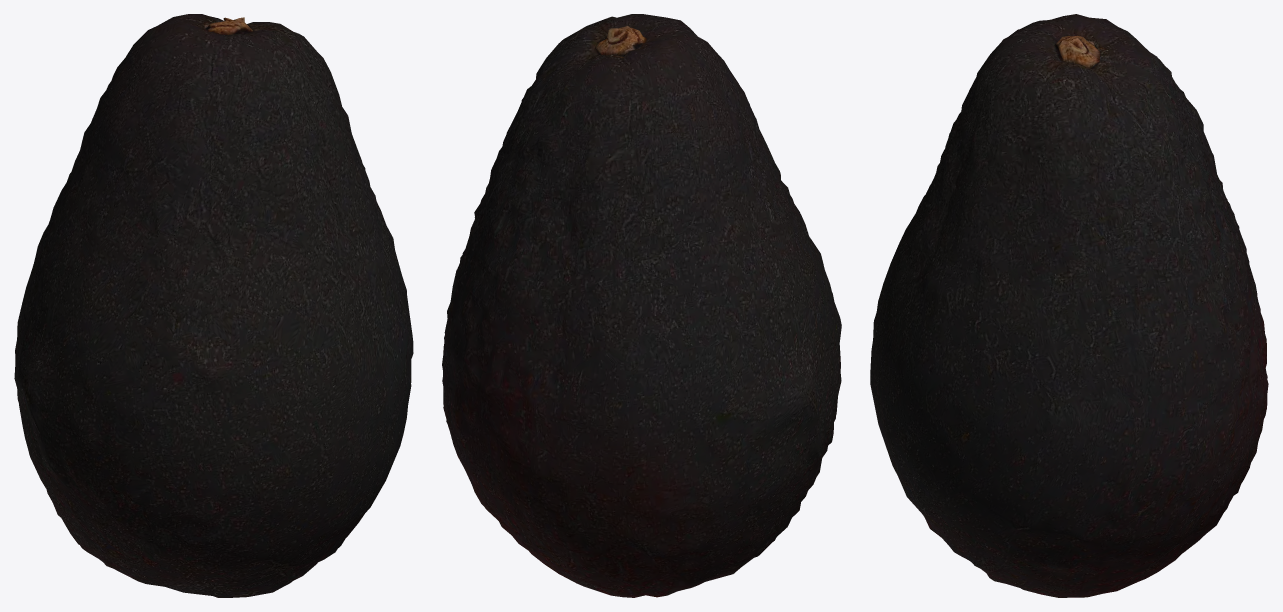
File: food_avocado_01.glb
The picture shows the model from 3 angles, left to right: view 1: azimuth 30°, elevation 25°; view 2: azimuth 150°, elevation 25°; view 3: azimuth 270°, elevation 25°; orthographic projection. The views are drawn at different scales.
Visible parts, largest first — view 1: food_avocado_01; view 2: food_avocado_01; view 3: food_avocado_01.
Boxes of the visible parts, x1,y1,x2,y2 form: food_avocado_01: [14, 14, 413, 597]; food_avocado_01: [442, 14, 841, 597]; food_avocado_01: [870, 14, 1268, 597].
Size of the model in its own units: 0.0952 by 0.1432 by 0.0946.
Materials: 1 (1 with a texture image).
